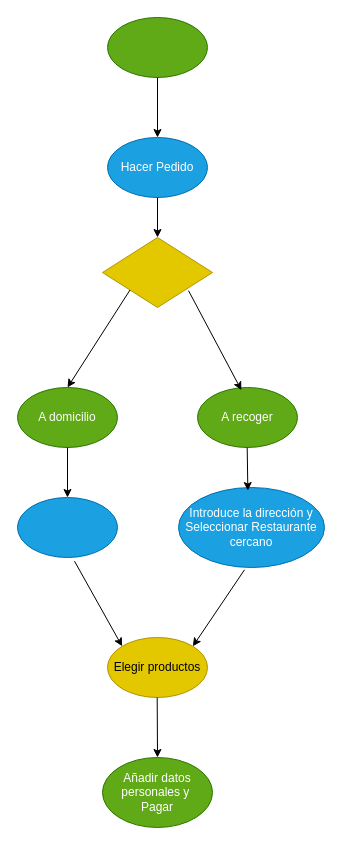
Image size: 342x845. Some labels were removed from this diagram. The shapes that lost their labels are listed below. From the top down, each one's centre as x and y in pixels, then its label:
At (x=157, y=47): "Home Page".
At (x=157, y=272): "Decidir entre".
At (x=67, y=527): "Introduce la dirección".
